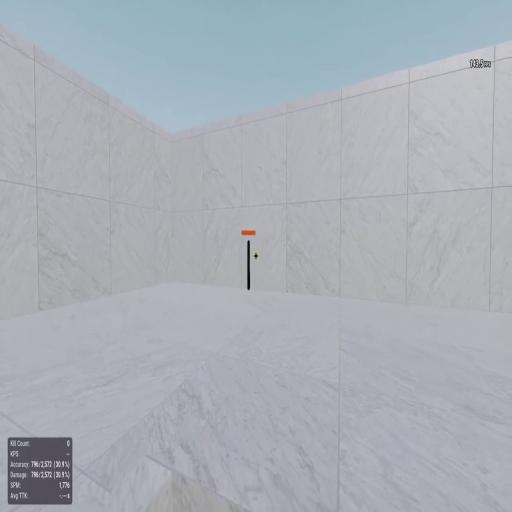Crosshair: (254, 252, 258, 261)
Target: (247, 239, 250, 291)
